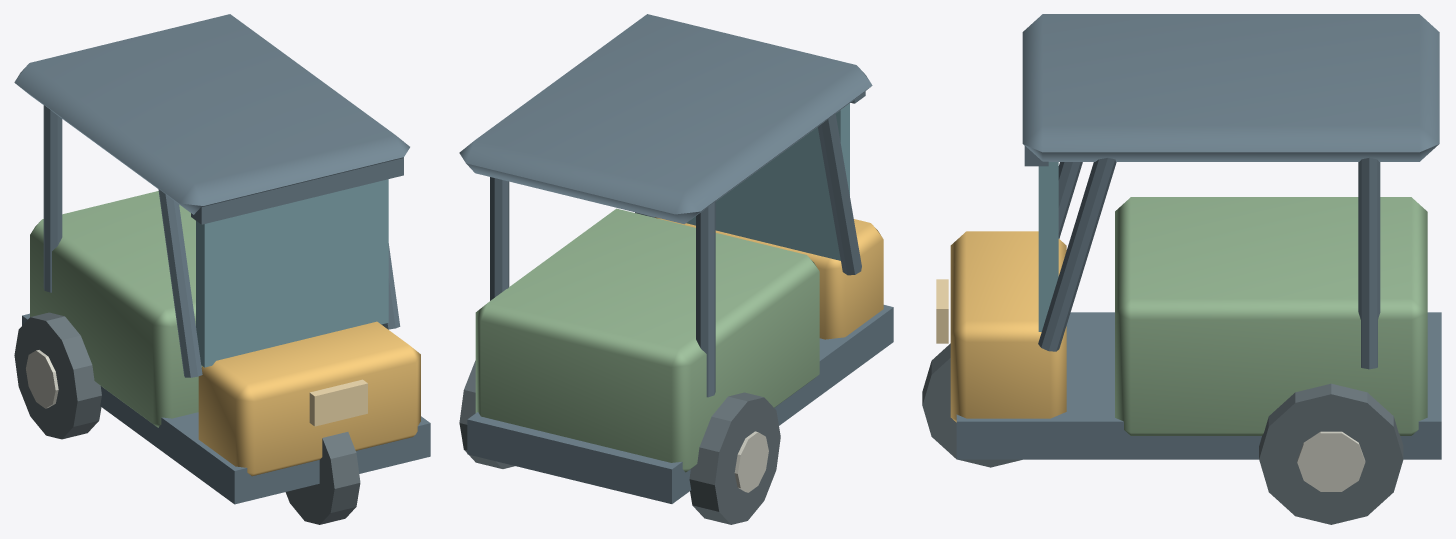
The model's file is auto_rickshaw.glb.
3 renders of one model, left to right at view 1: azimuth 30°, elevation 25°; view 2: azimuth 150°, elevation 25°; view 3: azimuth 270°, elevation 25°, orthographic. The views are drawn at different scales.
Visible parts, largest first — view 1: GEO-black canvas canopy, GEO-windshield, GEO-rear body, GEO-yellow nose, GEO-floor, GEO-rear wheel, GEO-front wheel, GEO-windshield frame, GEO-cab pillar, GEO-rear pillar, GEO-front lamp, GEO-hub (+1 smaller); view 2: GEO-rear body, GEO-black canvas canopy, GEO-floor, GEO-windshield, GEO-rear wheel, GEO-yellow nose, GEO-rear pillar, GEO-cab pillar, GEO-rear pillar.001, GEO-hub, GEO-rear wheel.001; view 3: GEO-rear body, GEO-black canvas canopy, GEO-yellow nose, GEO-floor, GEO-rear wheel.001, GEO-rear pillar.001, GEO-cab pillar.001, GEO-hub.001, GEO-windshield, GEO-front wheel, GEO-cab pillar, GEO-front lamp.
Boxes of the visible parts, x1,y1,x2,y2 form: GEO-black canvas canopy: (14,14,409,214); GEO-windshield: (196,179,388,367); GEO-rear body: (30,191,202,427); GEO-yellow nose: (198,321,420,476); GEO-floor: (22,313,430,504); GEO-rear wheel: (14,312,101,439); GEO-front wheel: (285,432,360,524); GEO-windshield frame: (191,157,403,224); GEO-cab pillar: (158,189,202,377); GEO-rear pillar: (43,105,62,292); GEO-front lamp: (309,379,367,426); GEO-hub: (26,350,58,408); GEO-rear body: (475,208,819,472); GEO-black canvas canopy: (459,14,872,224); GEO-floor: (467,305,893,503); GEO-windshield: (686,103,849,260); GEO-rear wheel: (689,392,780,524); GEO-yellow nose: (655,217,883,339); GEO-rear pillar: (696,201,715,397); GEO-cab pillar: (818,113,861,275); GEO-rear pillar.001: (490,177,509,300); GEO-hub: (734,431,768,492); GEO-rear wheel.001: (459,360,514,468); GEO-rear body: (1115,197,1427,435); GEO-black canvas canopy: (1022,14,1439,161); GEO-yellow nose: (950,231,1066,422); GEO-floor: (956,312,1441,459); GEO-rear wheel.001: (1259,383,1403,524); GEO-rear pillar.001: (1358,157,1380,369); GEO-cab pillar.001: (1038,158,1116,351); GEO-hub.001: (1297,431,1365,491); GEO-windshield: (1038,162,1058,331); GEO-front wheel: (922,343,1022,467); GEO-cab pillar: (1058,162,1082,238); GEO-front lamp: (936,279,948,343).
Bounding box in the file's own units: 1.68 × 2.15 × 2.59.
